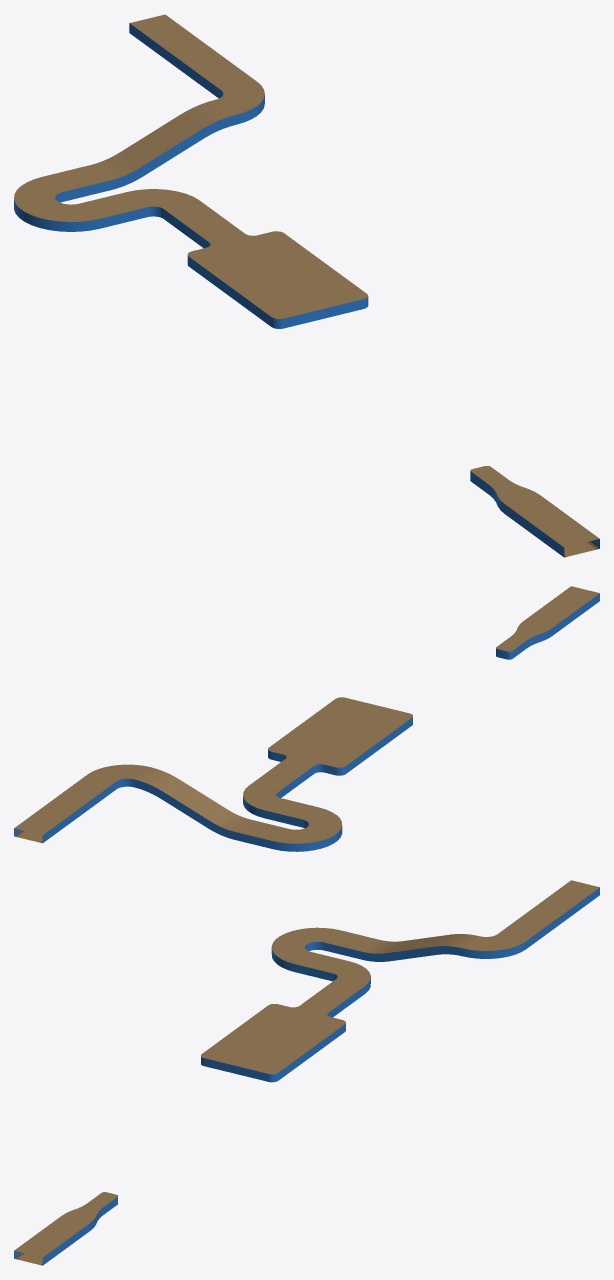
File: ramp_13.FBX
3 views of the same model, one above another, from view 1: azimuth 30°, elevation 25°; view 2: azimuth 150°, elevation 25°; view 3: azimuth 330°, elevation 25° (orthographic). The views are drawn at different scales.
Visible parts, largest first — view 1: ramp_13; view 2: ramp_13; view 3: ramp_13.
Boxes of the visible parts, left/top/right/bottom form: ramp_13: left=14, top=14, right=599, bottom=557; ramp_13: left=14, top=586, right=599, bottom=851; ramp_13: left=14, top=880, right=599, bottom=1265.
Bounding box in the file's own units: 4123 × 1300 × 14806.
